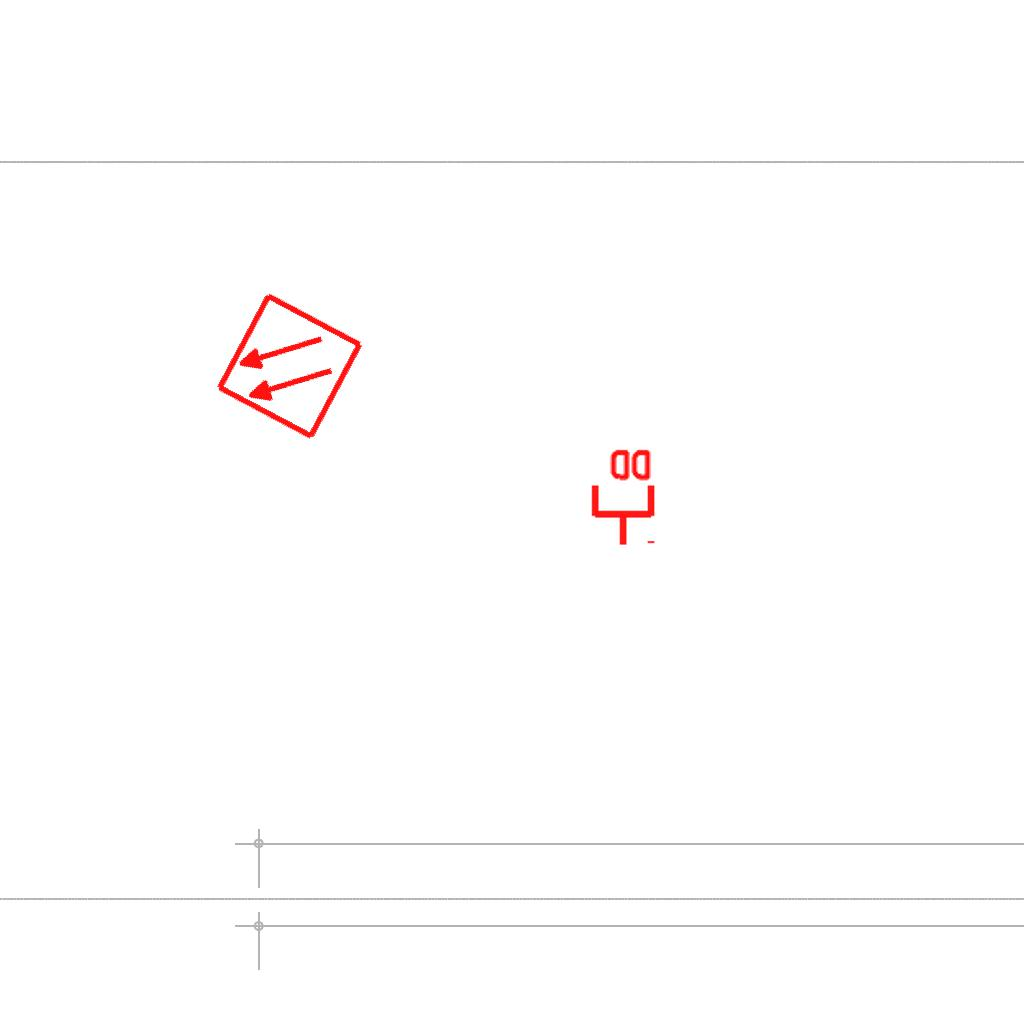Datenanschluss_zweifach: (587, 445, 656, 548)
RMO_Rauchmelder_optischer: (213, 290, 366, 443)
